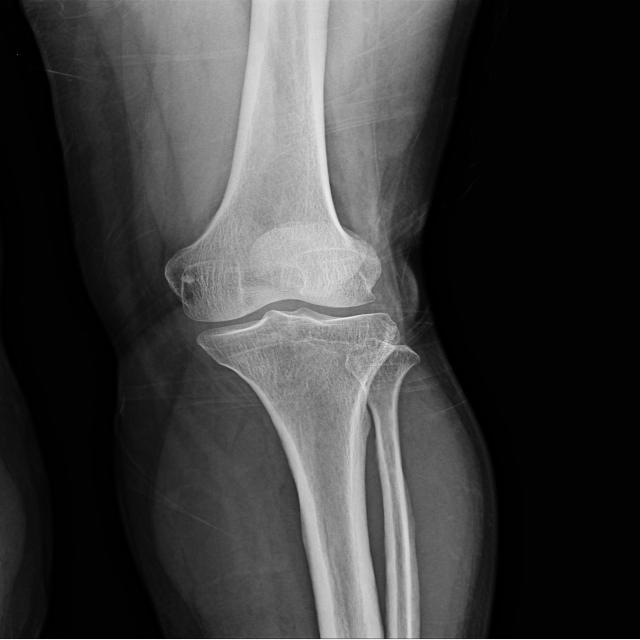normal: (161, 240, 408, 346)
